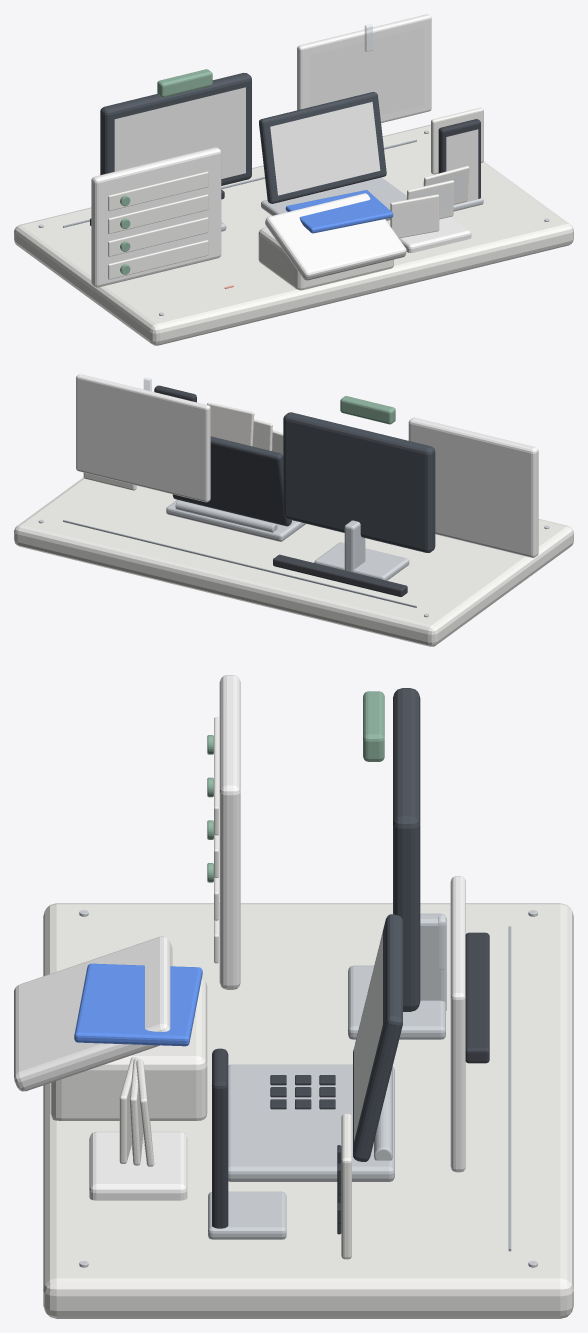
The model's file is release.glb.
3 renders of one model, top to bottom at view 1: azimuth 30°, elevation 25°; view 2: azimuth 150°, elevation 25°; view 3: azimuth 270°, elevation 25°, orthographic. The views are drawn at different scales.
Visible parts, largest first — view 1: REL_delivery_station, REL_qa_panel, SCREEN_release_monitor, SCREEN_release_laptop, PRINT_release_device, REL_archive_lid, REL_monitor_frame, REL_projection_frame, REL_devices, REL_release_folder, REL_archive_box, REL_laptop_base (+15 smaller); view 2: REL_delivery_station, REL_monitor_frame, REL_projection_frame, REL_qa_panel, REL_devices, REL_cable_channel, REL_monitor_foot, REL_project_card_2, REL_laptop_base, REL_laptop_hinge, REL_live_state, REL_station_seam (+3 smaller); view 3: REL_delivery_station, REL_laptop_base, REL_archive_lid, REL_archive_box, REL_monitor_frame, REL_release_folder, REL_qa_panel, REL_project_rack, REL_devices, REL_projection_frame, REL_cable_channel, REL_phone_stand (+11 smaller).
Part boxes in pixels (x1,y1,x2,y2): REL_delivery_station: [14, 124, 573, 345]; REL_qa_panel: [91, 147, 221, 287]; SCREEN_release_monitor: [114, 87, 245, 178]; SCREEN_release_laptop: [270, 102, 380, 195]; PRINT_release_device: [309, 27, 424, 115]; REL_archive_lid: [265, 193, 406, 280]; REL_monitor_frame: [100, 72, 251, 185]; REL_projection_frame: [297, 14, 431, 122]; REL_devices: [259, 92, 386, 203]; REL_release_folder: [285, 190, 393, 233]; REL_archive_box: [258, 227, 393, 290]; REL_laptop_base: [261, 177, 406, 220]; REL_delivery_station: [14, 477, 573, 646]; REL_monitor_frame: [283, 412, 435, 552]; REL_projection_frame: [76, 374, 210, 502]; REL_qa_panel: [408, 417, 538, 557]; REL_devices: [172, 436, 291, 526]; REL_cable_channel: [273, 554, 407, 596]; REL_monitor_foot: [314, 542, 409, 580]; REL_project_card_2: [207, 402, 254, 446]; REL_laptop_base: [166, 499, 305, 541]; REL_laptop_hinge: [175, 500, 277, 532]; REL_live_state: [340, 396, 395, 424]; REL_station_seam: [63, 520, 416, 607]; REL_delivery_station: [43, 903, 573, 1318]; REL_laptop_base: [228, 1064, 394, 1181]; REL_archive_lid: [14, 936, 172, 1091]; REL_archive_box: [50, 977, 207, 1120]; REL_monitor_frame: [393, 688, 420, 1011]; REL_release_folder: [74, 963, 202, 1046]; REL_qa_panel: [219, 675, 240, 989]; REL_project_rack: [89, 1131, 187, 1200]; REL_devices: [353, 914, 402, 1161]; REL_projection_frame: [450, 876, 465, 1172]; REL_cable_channel: [465, 932, 489, 1063]; REL_phone_stand: [208, 1191, 286, 1239].
Bounding box in the file's own units: 6.87 × 2.71 × 4.11.
